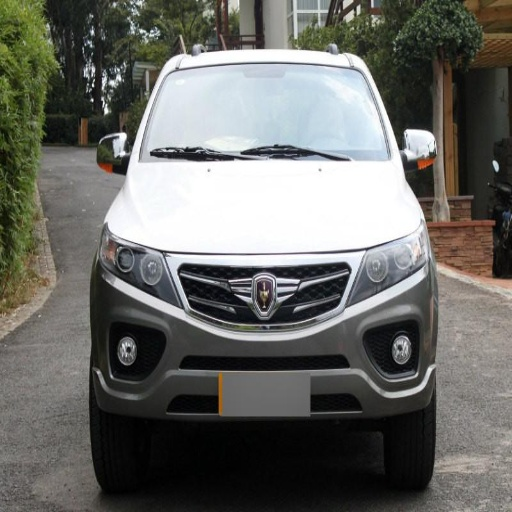front_bumper: (99, 240, 438, 420)
front_right_light: (99, 225, 164, 295)
hood: (111, 160, 420, 250)
left_mirror: (403, 130, 438, 170)
